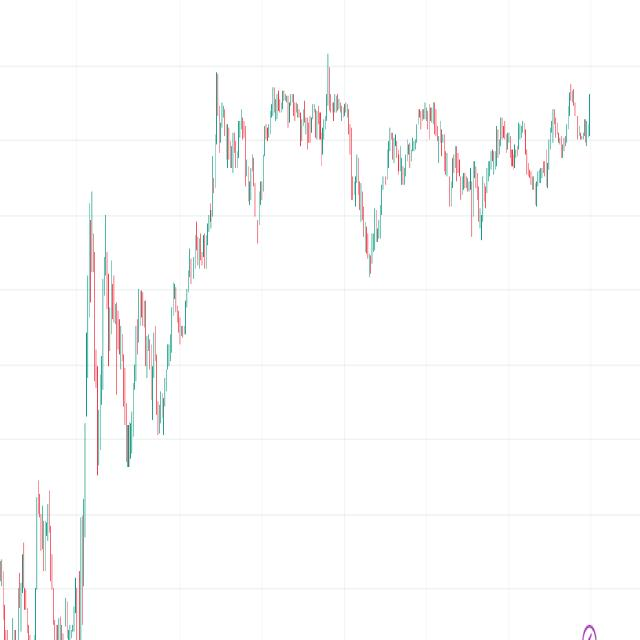Triple-Bottom: (90, 278, 178, 469)
